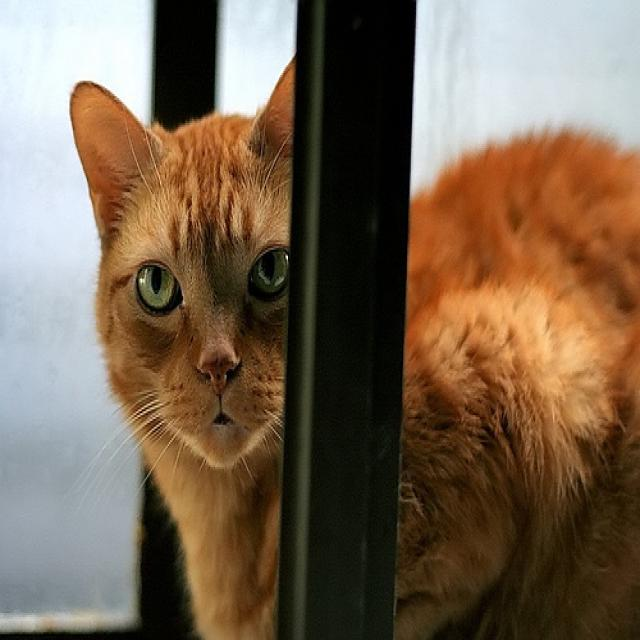cat: (69, 51, 640, 639)
